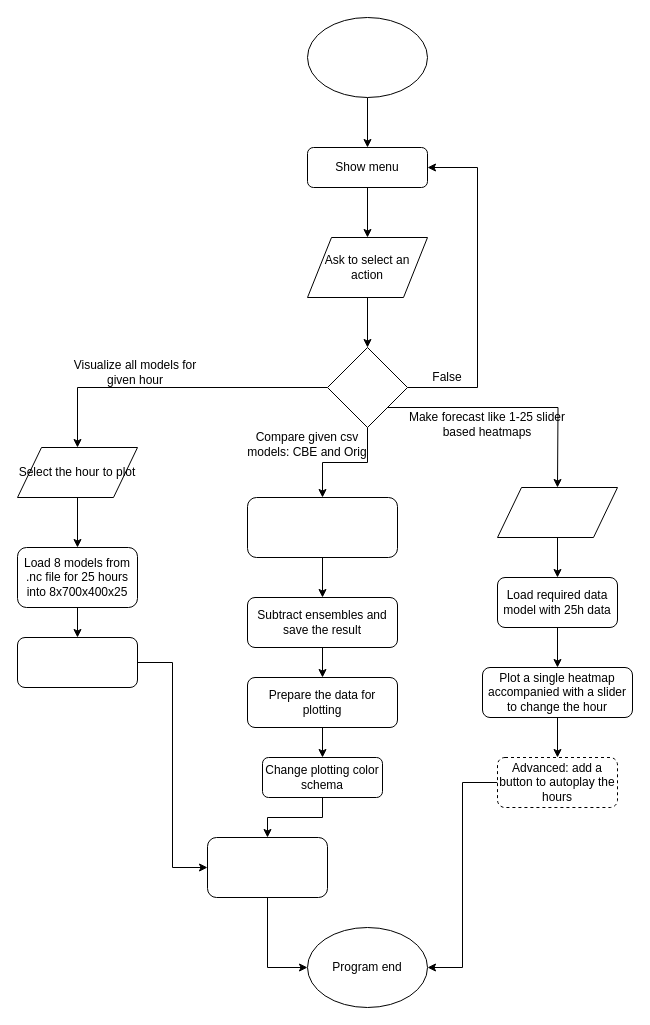
The diagram is 650 pixels wide and 1025 high, and some of its shapes have lost their labels. Here are the shapes that lost their labels. From the top down, the centre of each, then its label:
(x=367, y=57): Program start
(x=367, y=387): Action valid
(x=322, y=527): Load the CBE and Orig model data 7x698x398
(x=557, y=512): Select model to plot
(x=77, y=662): Prepare the data for plotting (add titles, filter selected hour)
(x=267, y=867): Plot given sets of 700x400 matrixes using subplot, where arg2 is array of titles
